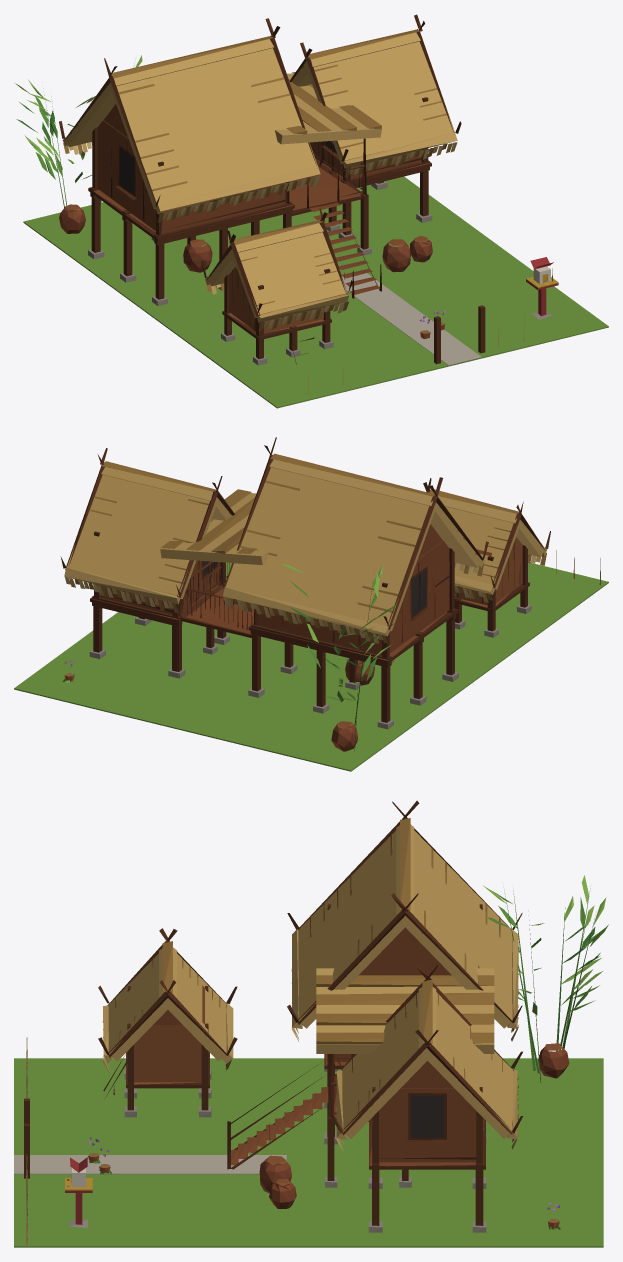
File: house12_2.glb
The picture shows the model from 3 angles, top to bottom: view 1: azimuth 30°, elevation 25°; view 2: azimuth 150°, elevation 25°; view 3: azimuth 270°, elevation 25°; orthographic projection. The views are drawn at different scales.
Visible parts, largest first — view 1: body, windows; view 2: body, windows; view 3: body, windows.
Part boxes in pixels (x1,y1,x2,y2): body: [15, 14, 608, 408]; windows: [119, 141, 336, 194]; body: [14, 437, 608, 771]; windows: [203, 561, 426, 615]; body: [14, 800, 608, 1247]; windows: [411, 1095, 444, 1137].
Size of the model in its own units: 12.64 by 7.9 by 16.04.
